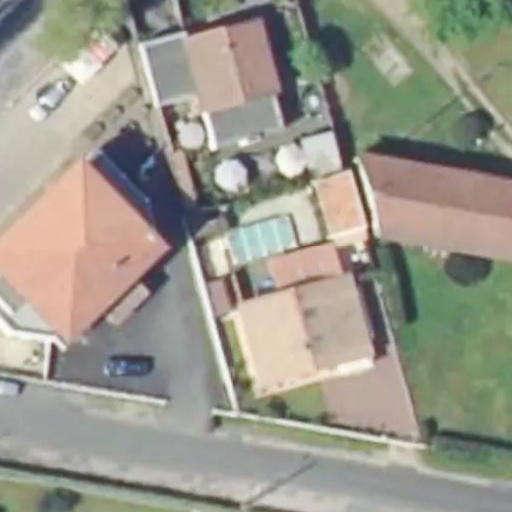pool: (219, 234, 292, 249)
